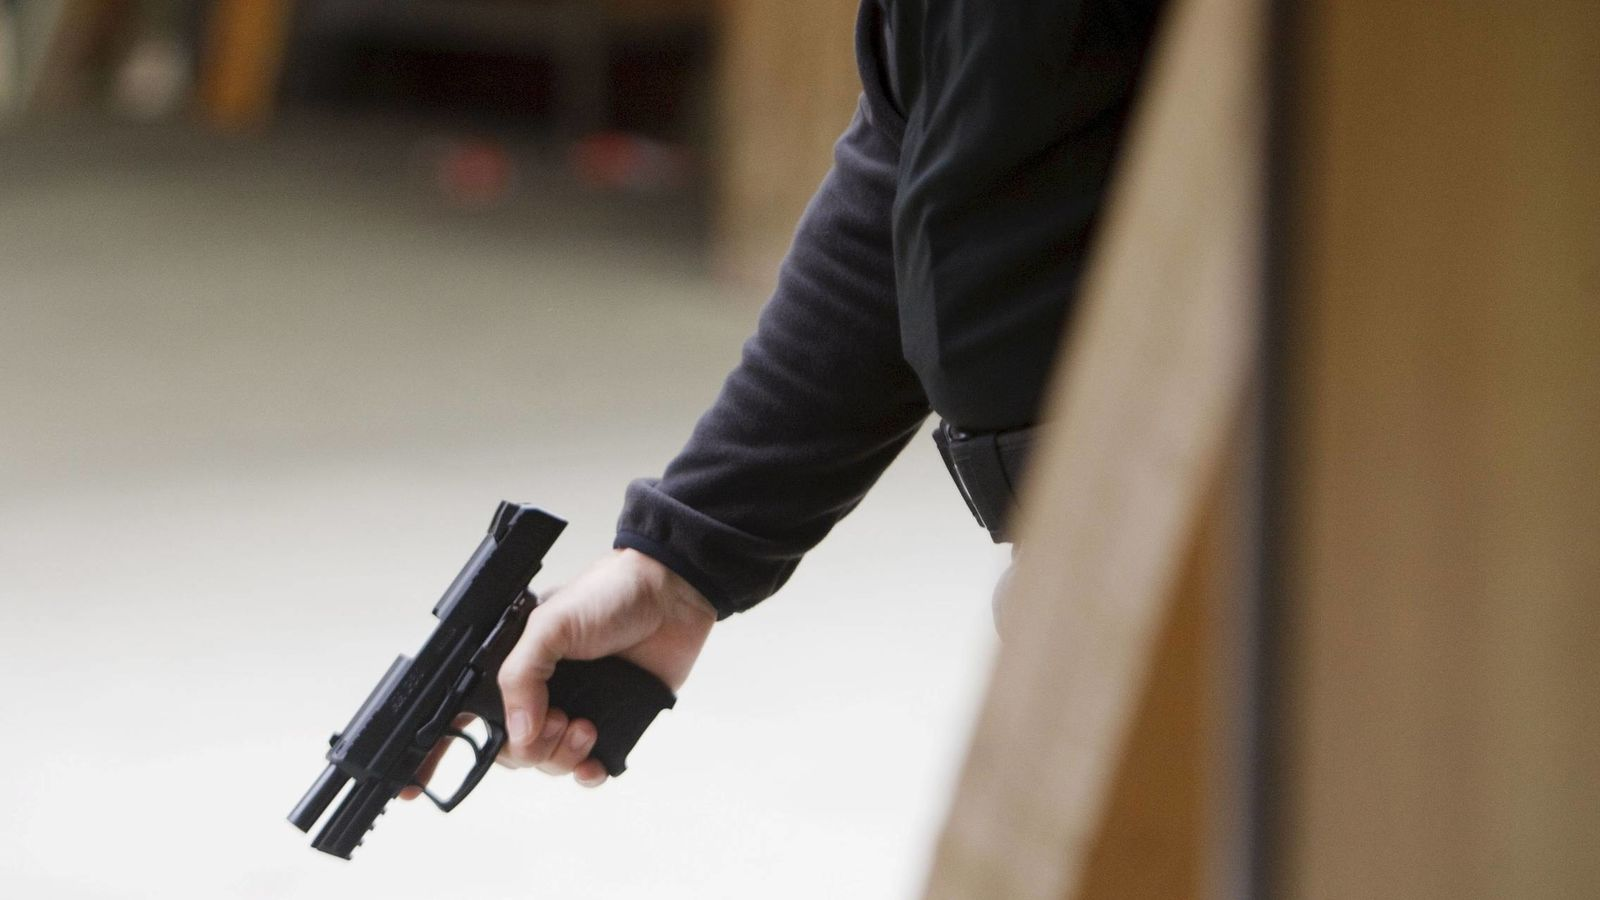pistol: (284, 497, 681, 863)
